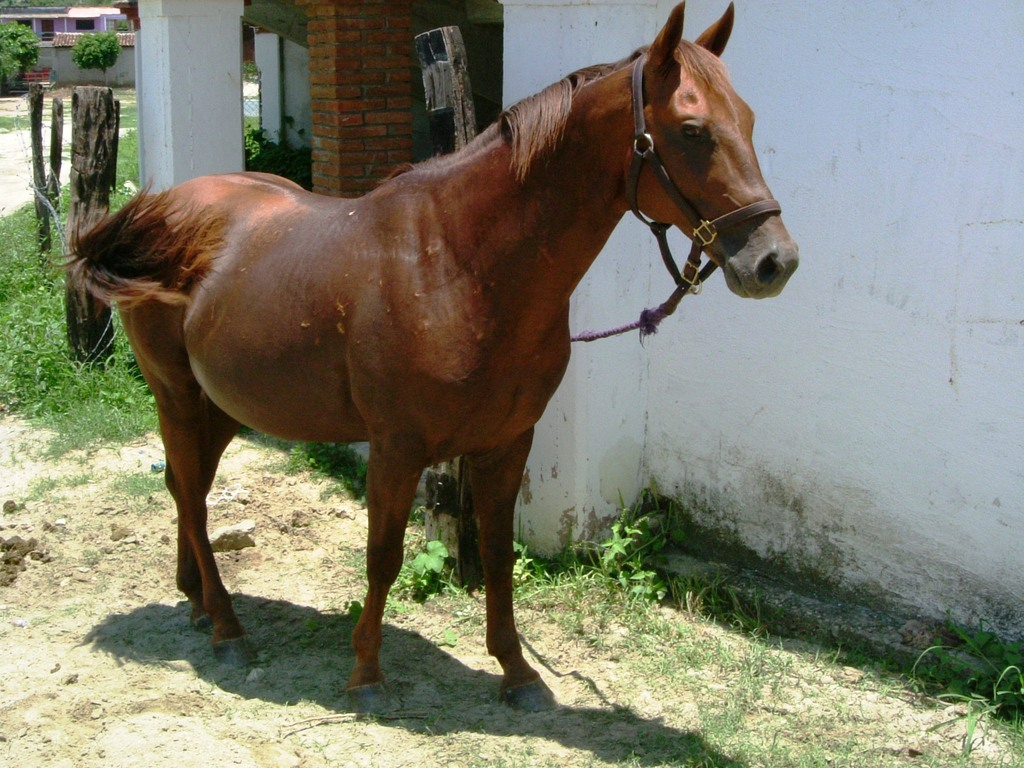horse: (46, 0, 801, 716)
